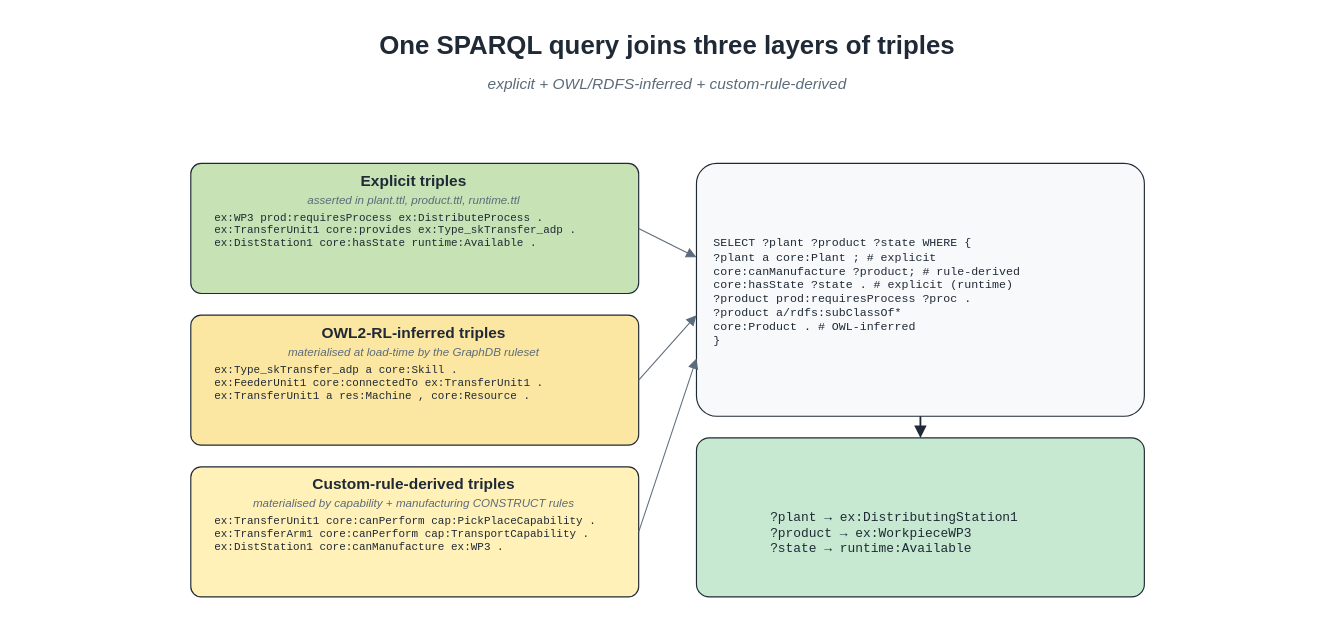
This 1334x619 diagram has some shape labels left out. Here are the shapes that lost their labels. From the top down, the box of each, then its label:
(695, 162, 1144, 416): SPARQL SELECT query (against the materialised store)
(695, 437, 1144, 597): Single result row
